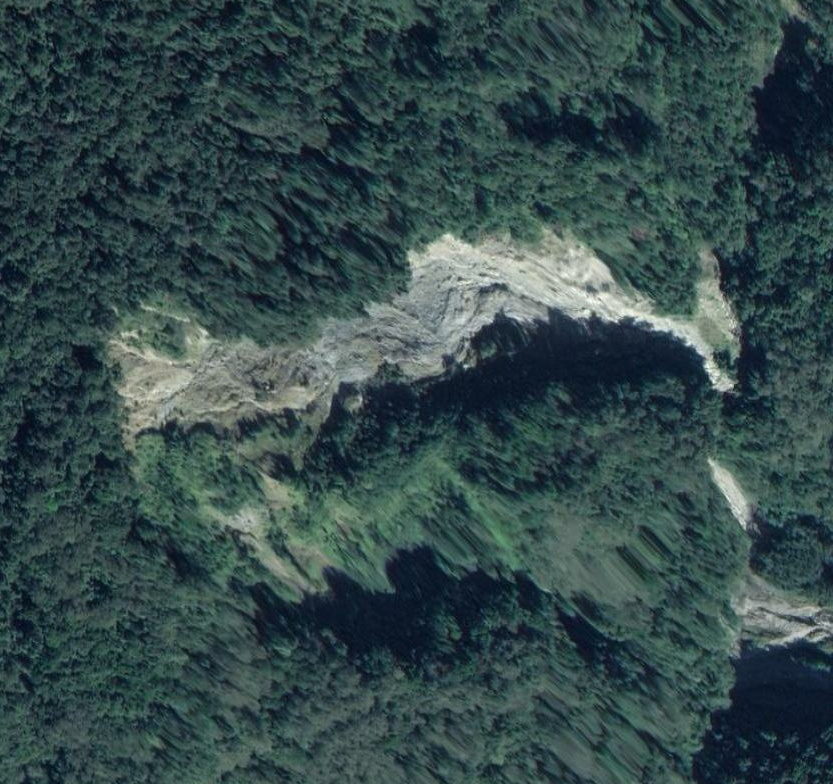slope: (94, 217, 754, 494), (734, 579, 829, 657), (702, 451, 762, 545)
